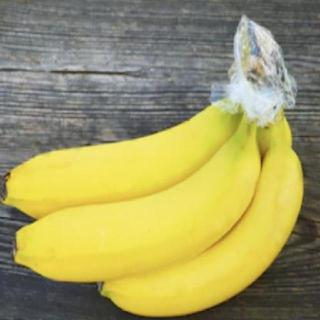banana: (12, 138, 262, 284), (98, 146, 304, 318), (0, 96, 251, 230)
